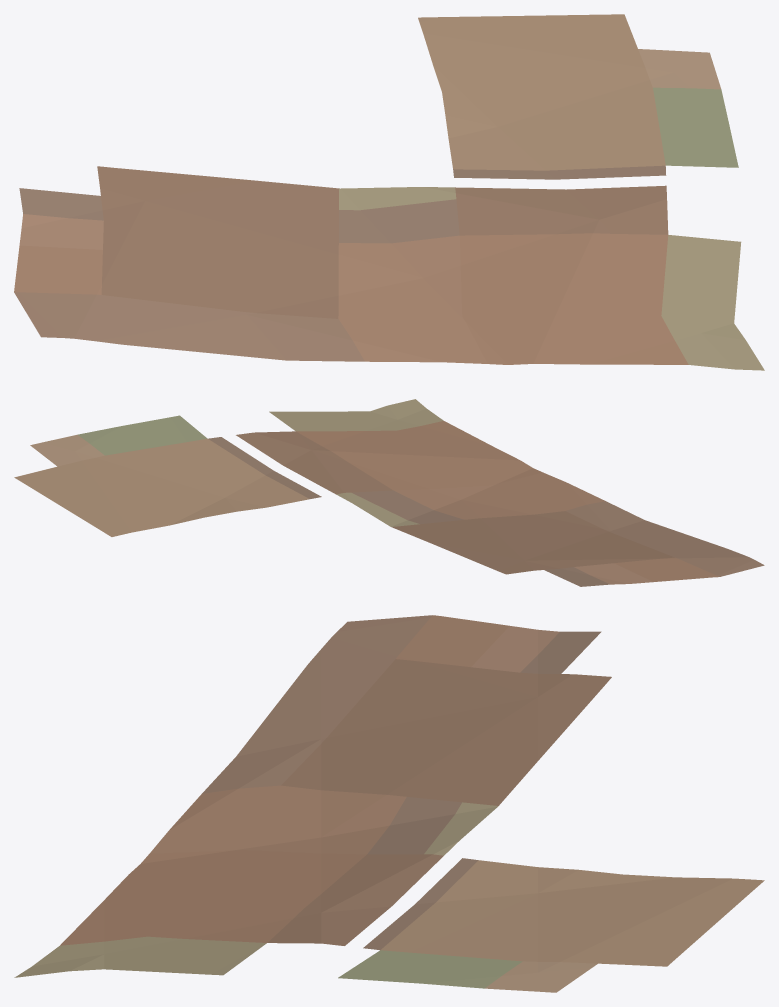
File: farm_0_15_soil.glb
3 renders of one model, top to bottom at view 1: azimuth 30°, elevation 25°; view 2: azimuth 150°, elevation 25°; view 3: azimuth 270°, elevation 25°, orthographic. The views are drawn at different scales.
Visible parts, largest first — view 1: geometry_0; view 2: geometry_0; view 3: geometry_0.
Boxes of the visible parts, x1,y1,x2,y2 form: geometry_0: [14, 14, 764, 370]; geometry_0: [14, 399, 764, 586]; geometry_0: [14, 615, 764, 992].
Bounding box in the file's own units: 348 × 41.4 × 277.
